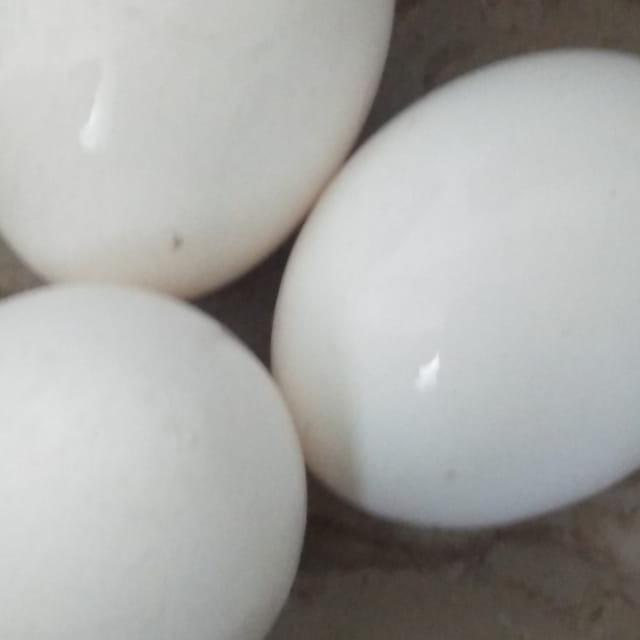egg: (263, 0, 640, 640), (0, 214, 324, 640), (0, 0, 399, 298)
